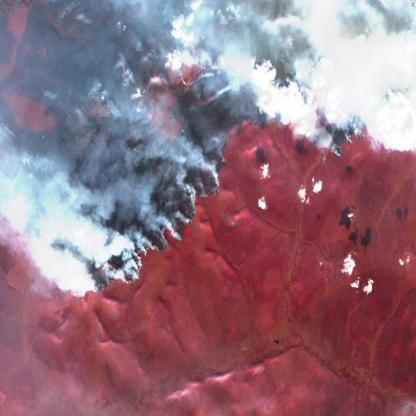fire: (0, 157, 224, 296), (180, 50, 416, 168)
